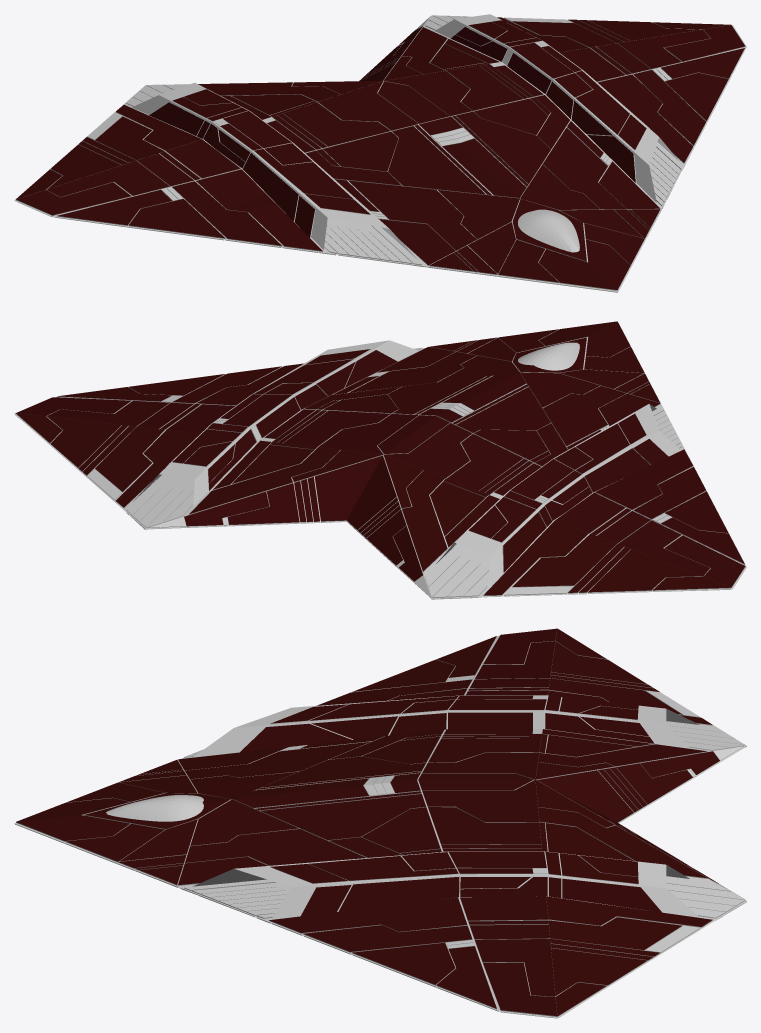
3 views of the same model, one above another, from view 1: azimuth 30°, elevation 25°; view 2: azimuth 150°, elevation 25°; view 3: azimuth 270°, elevation 25° (orthographic). The views are drawn at different scales.
Parts seen in each view (by area): view 1: Plating_Top, Jet, Cockpit, Plating_Bottom; view 2: Plating_Top, Jet, Cockpit, Plating_Bottom; view 3: Plating_Top, Jet, Cockpit, Plating_Bottom.
Part boxes in pixels (x1=…): Plating_Top: x1=15, y1=15, x2=745, y2=290; Jet: x1=14, y1=14, x2=746, y2=291; Cockpit: x1=518, y1=209, x2=579, y2=252; Plating_Bottom: x1=18, y1=70, x2=734, y2=292; Plating_Top: x1=15, y1=321, x2=745, y2=597; Jet: x1=14, y1=322, x2=746, y2=598; Cockpit: x1=518, y1=342, x2=579, y2=370; Plating_Bottom: x1=15, y1=415, x2=731, y2=599; Plating_Top: x1=16, y1=628, x2=745, y2=1016; Jet: x1=14, y1=635, x2=746, y2=1018; Cockpit: x1=106, y1=795, x2=203, y2=821; Plating_Bottom: x1=15, y1=746, x2=746, y2=1018.
Size of the model in its own units: 12.8 by 0.91 by 10.18.
